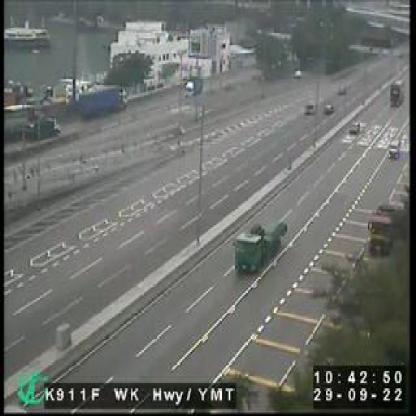Bus: (386, 76, 406, 106)
Car: (385, 140, 399, 162), (347, 116, 360, 137), (322, 101, 334, 115)
Truck: (231, 215, 286, 276)
